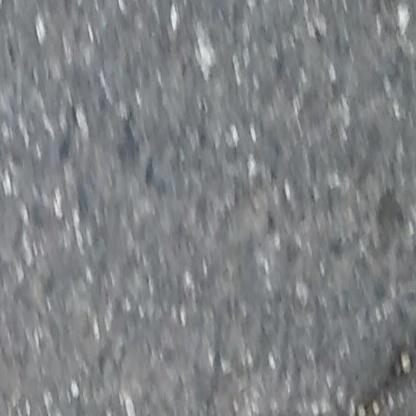Cracks: (331, 305, 416, 416)
